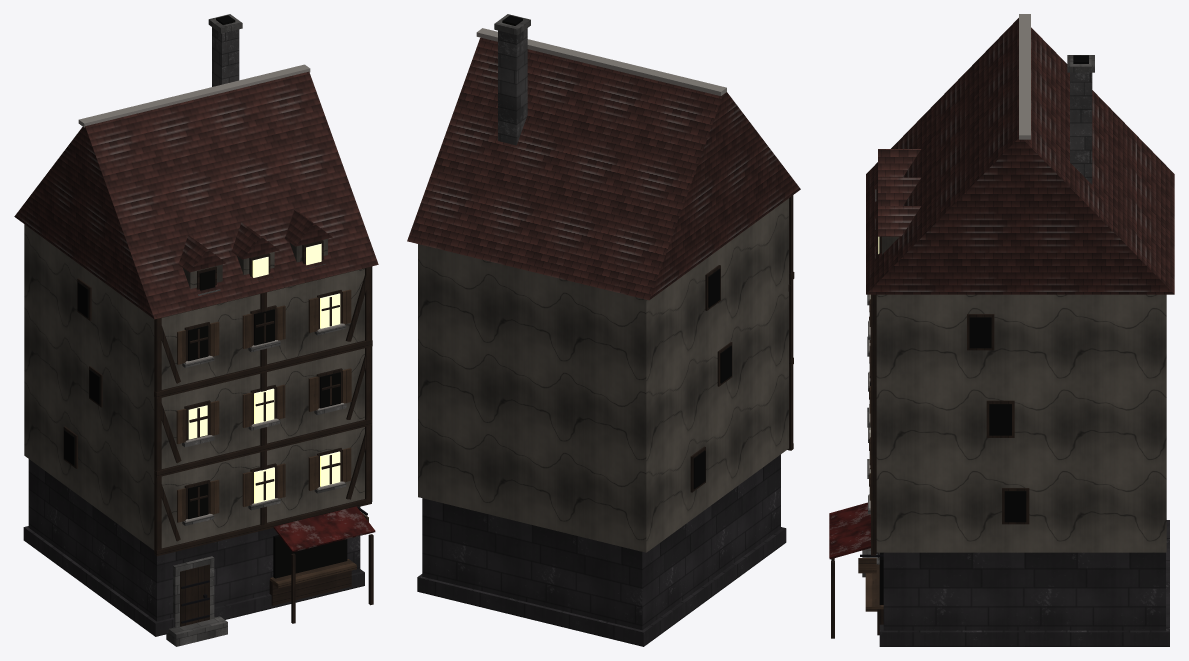
The model's file is CasaB06.gltf.
3 renders of one model, left to right at view 1: azimuth 30°, elevation 25°; view 2: azimuth 150°, elevation 25°; view 3: azimuth 270°, elevation 25°, orthographic. The views are drawn at different scales.
Visible parts, largest first — view 1: CasaB06; view 2: CasaB06; view 3: CasaB06.
Part boxes in pixels (<box>): CasaB06: <box>14,14,378,646</box>; CasaB06: <box>407,14,800,646</box>; CasaB06: <box>829,14,1174,646</box>.
Size of the model in its own units: 9.58 by 21.01 by 11.52.
Materials: 12 (8 with a texture image).
